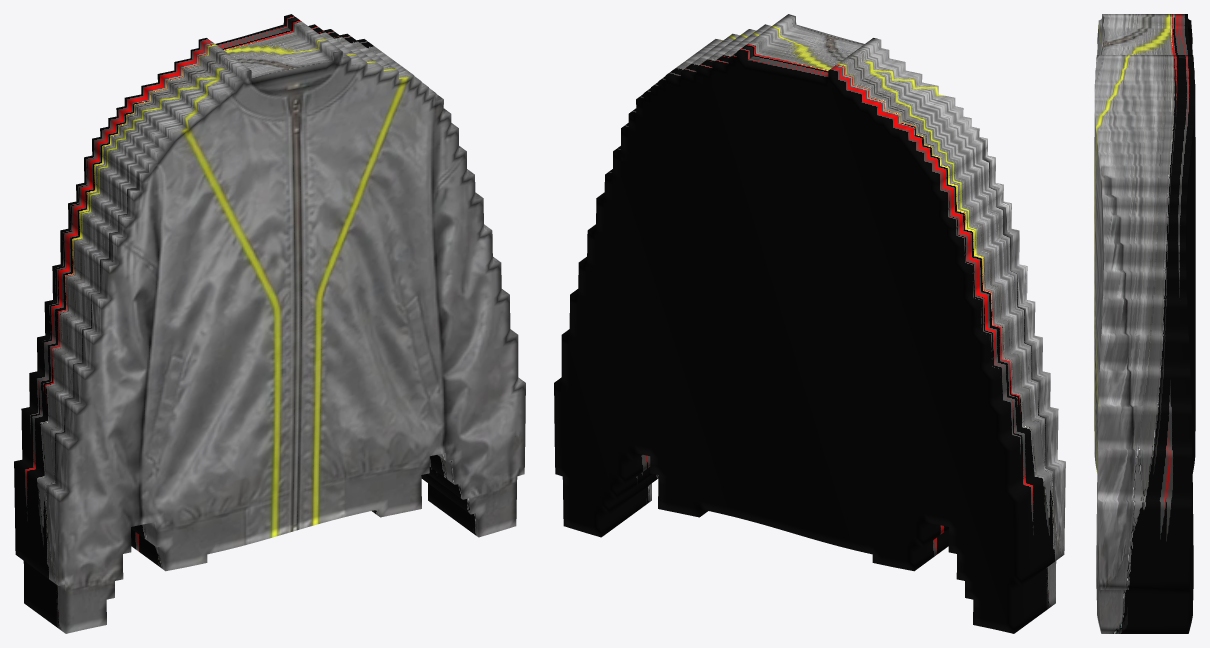
The model's file is rail-03-silver-tech.glb.
The picture shows the model from 3 angles, left to right: view 1: azimuth 30°, elevation 25°; view 2: azimuth 150°, elevation 25°; view 3: azimuth 270°, elevation 25°; orthographic projection. The views are drawn at different scales.
Parts seen in each view (by area): view 1: 03-silver-tech-cutout; view 2: 03-silver-tech-cutout; view 3: 03-silver-tech-cutout.
Part boxes in pixels (x1,y1,x2,y2): 03-silver-tech-cutout: (14,14,525,633); 03-silver-tech-cutout: (554,14,1065,633); 03-silver-tech-cutout: (1094,14,1195,633).
Size of the model in its own units: 0.522 by 0.558 by 0.104.
1 material, 1 textured.
